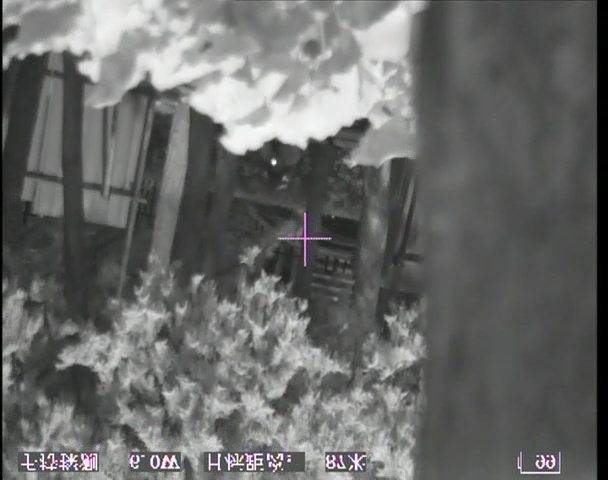my: (268, 157, 278, 166)
